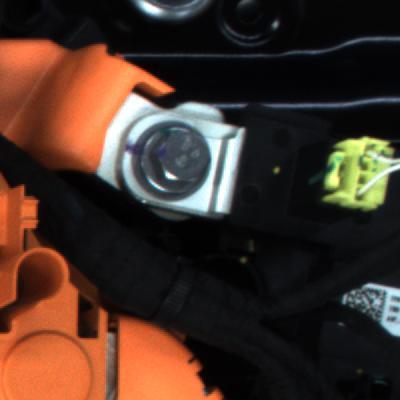nut_b: (126, 116, 222, 207)
